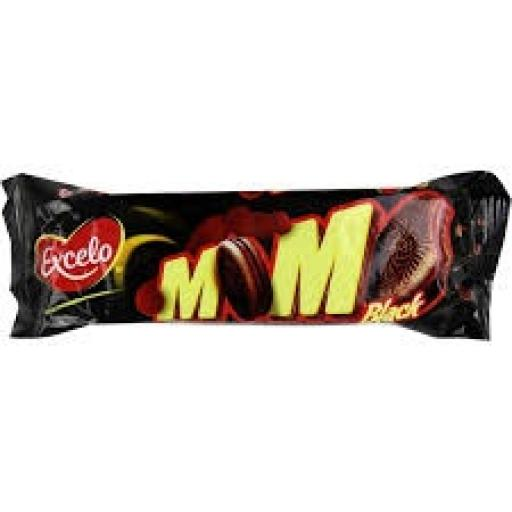MOMO: (1, 129, 512, 391)
